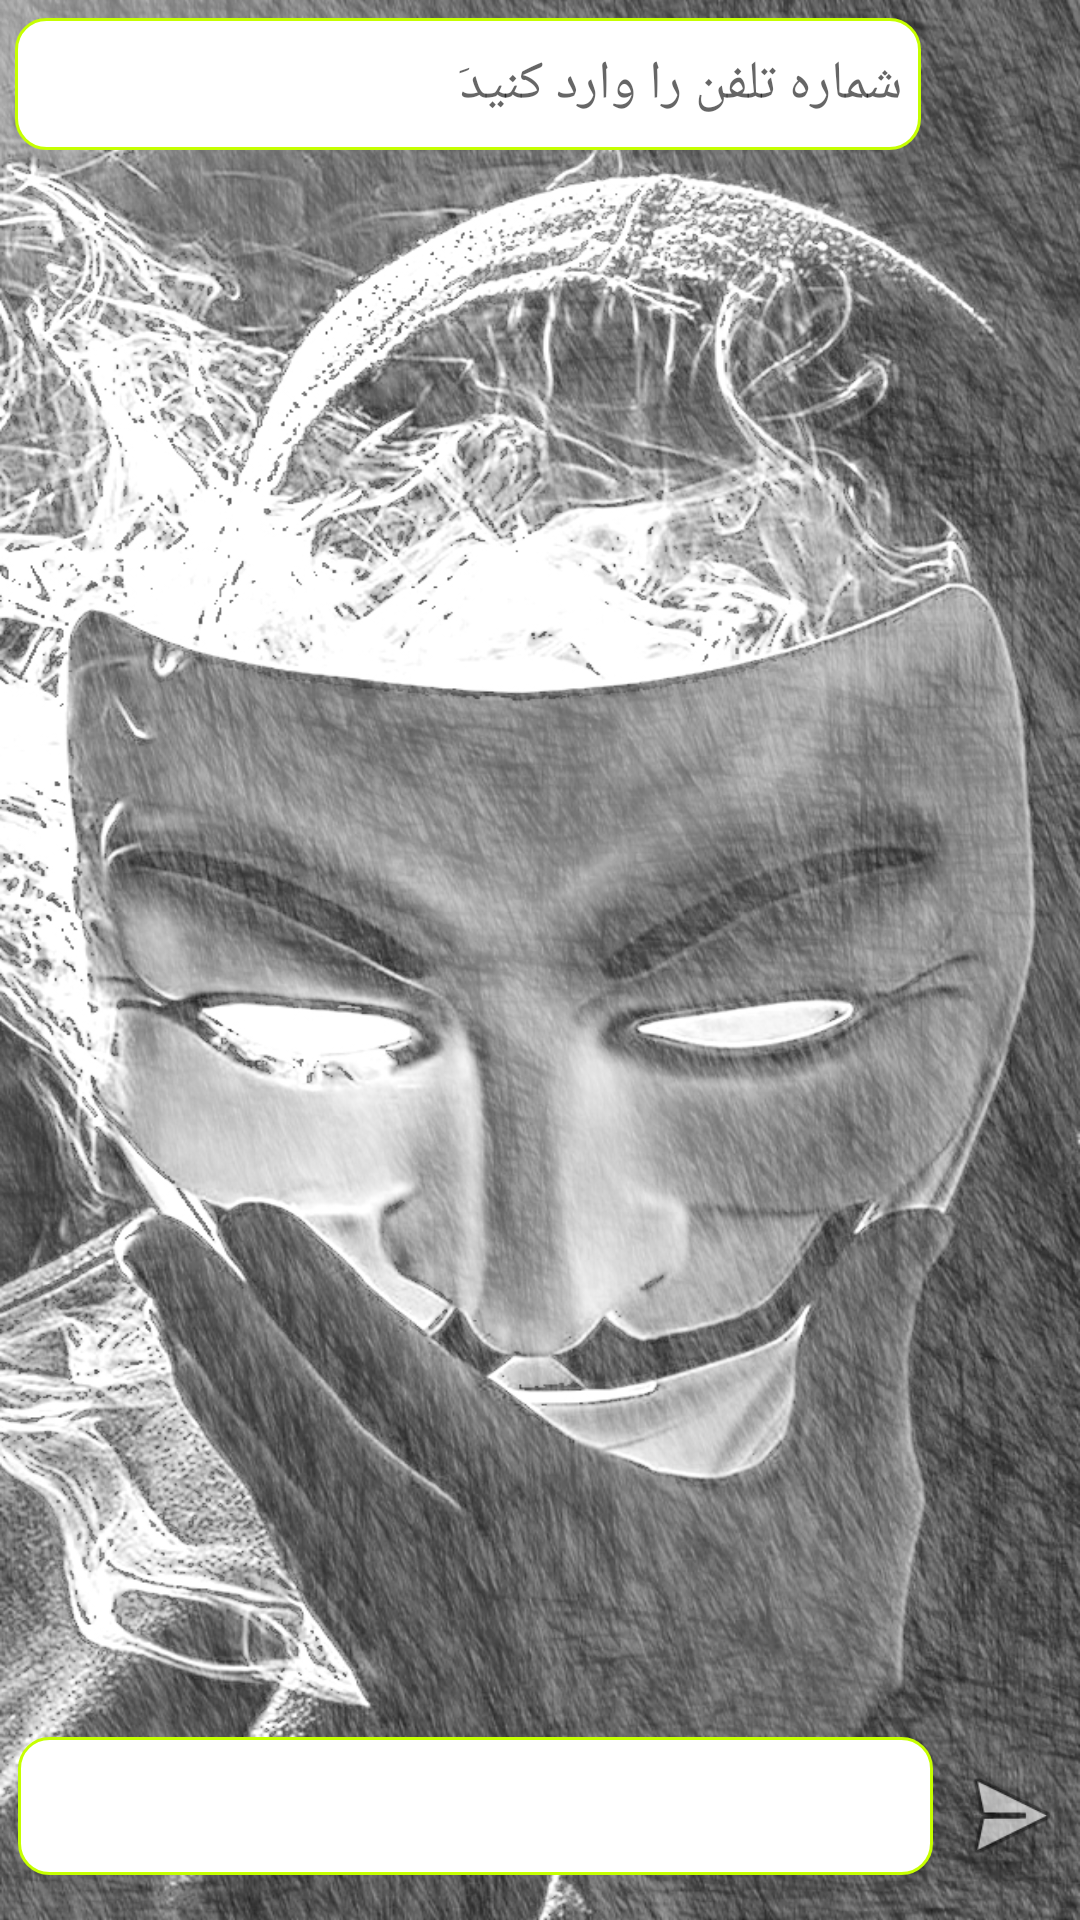

Icons on this 1080×1920 Android screen, each with its box as {"left": x1, "top": y1, "right": x2, "bottom": y2}:
send: {"left": 951, "top": 1755, "right": 1071, "bottom": 1875}
